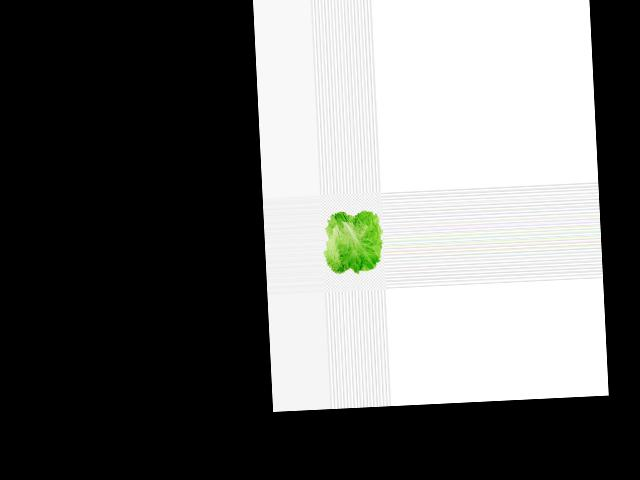lettuce: (320, 205, 385, 279)
